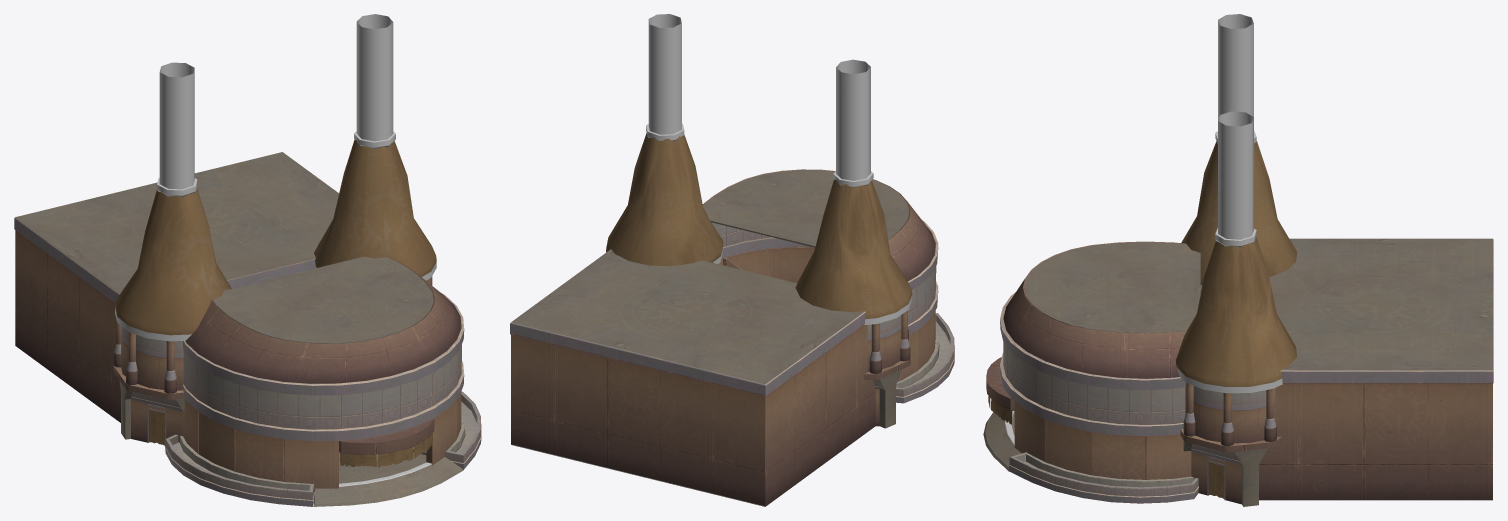
File: Building_Blacksmith.fbx
The picture shows the model from 3 angles, left to right: view 1: azimuth 30°, elevation 25°; view 2: azimuth 150°, elevation 25°; view 3: azimuth 270°, elevation 25°; orthographic projection. The views are drawn at different scales.
Visible parts, largest first — view 1: Cube.014, Building_Blacksmith_Wall, Building_Blacksmith_Ceiling, Building_Blacksmith.004, Building_Blacksmith.009, Sphere.001, Building_Blacksmith_Floor; view 2: Cube.014, Building_Blacksmith.004, Building_Blacksmith.009, Building_Blacksmith_Ceiling, Building_Blacksmith_Wall, Sphere.001; view 3: Cube.014, Building_Blacksmith.009, Building_Blacksmith_Ceiling, Building_Blacksmith_Wall, Building_Blacksmith.004, Sphere.001, Building_Blacksmith_Floor.
Part boxes in pixels (left/top/right/bottom): Cube.014: left=14, top=152, right=338, bottom=422; Building_Blacksmith_Wall: left=182, top=293, right=464, bottom=491; Building_Blacksmith_Ceiling: left=185, top=257, right=461, bottom=383; Building_Blacksmith.004: left=113, top=62, right=231, bottom=446; Building_Blacksmith.009: left=314, top=14, right=436, bottom=285; Sphere.001: left=165, top=391, right=481, bottom=506; Building_Blacksmith_Floor: left=313, top=452, right=463, bottom=506; Cube.014: left=510, top=249, right=875, bottom=506; Building_Blacksmith.004: left=795, top=59, right=912, bottom=428; Building_Blacksmith.009: left=606, top=14, right=723, bottom=266; Building_Blacksmith_Ceiling: left=702, top=169, right=935, bottom=281; Building_Blacksmith_Wall: left=711, top=220, right=938, bottom=381; Sphere.001: left=896, top=313, right=954, bottom=403; Cube.014: left=1259, top=238, right=1493, bottom=500; Building_Blacksmith.009: left=1176, top=111, right=1297, bottom=506; Building_Blacksmith_Ceiling: left=1003, top=241, right=1200, bottom=378; Building_Blacksmith_Wall: left=986, top=292, right=1191, bottom=479; Building_Blacksmith.004: left=1181, top=14, right=1297, bottom=293; Sphere.001: left=1009, top=452, right=1198, bottom=503; Building_Blacksmith_Floor: left=983, top=411, right=1021, bottom=471.
Size of what is drawn, in the model's own units: 2343 by 2631 by 3340.
